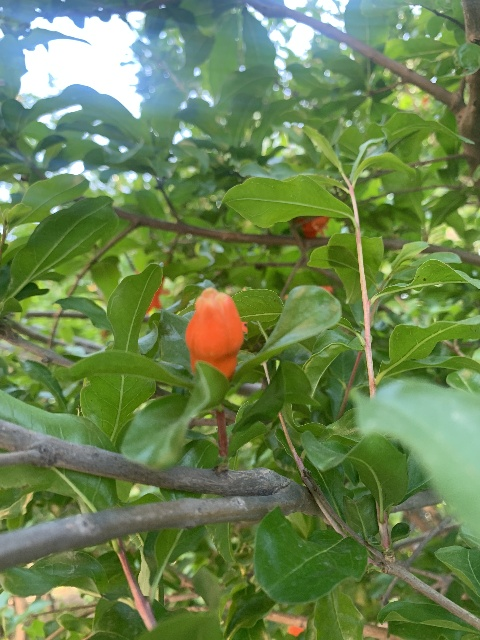bud: (185, 287, 245, 381)
flower: (296, 216, 329, 239)
